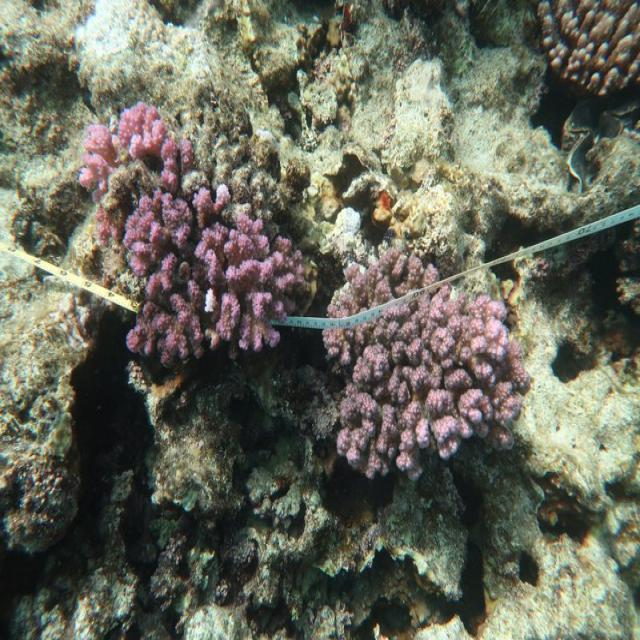Healthy Coral: (82, 95, 308, 378), (323, 244, 533, 471)
